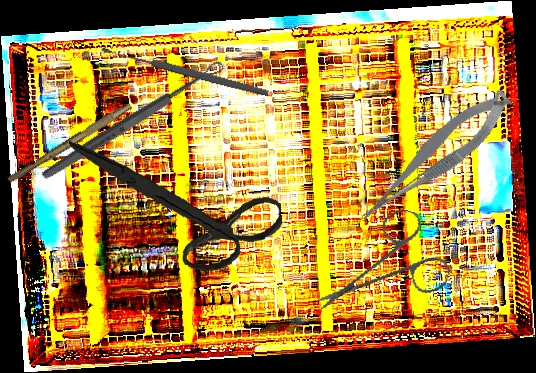Iris Scissors: (69, 121, 286, 283), (315, 193, 463, 340)
Micro Scissor: (344, 84, 524, 228)
Scalpel Handle: (6, 98, 133, 187)
Surgical Spoon: (38, 58, 228, 183), (100, 43, 270, 99)
